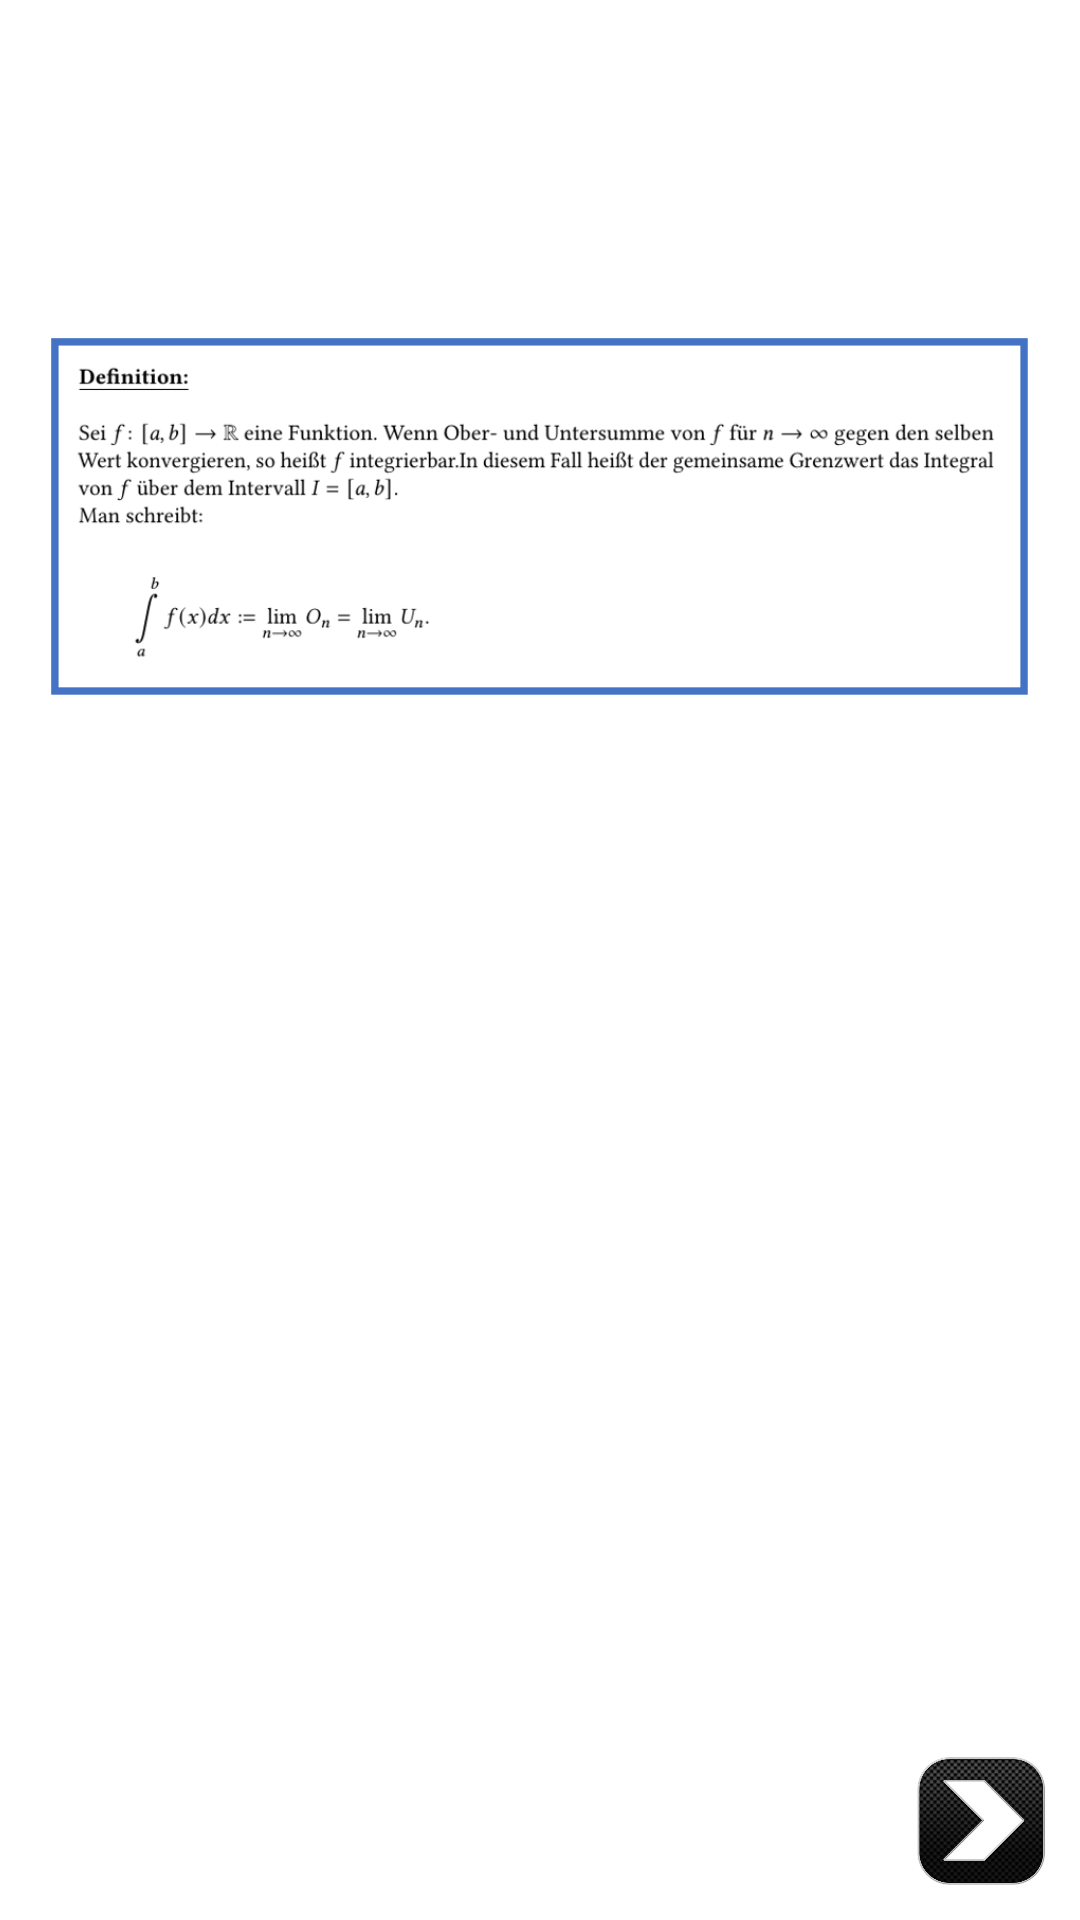

Locate icon controls on the screen. Image size 1080×1920, boxes as Rect(x1, y1, x2, y2).
nextbutton: Rect(918, 1757, 1045, 1885)
